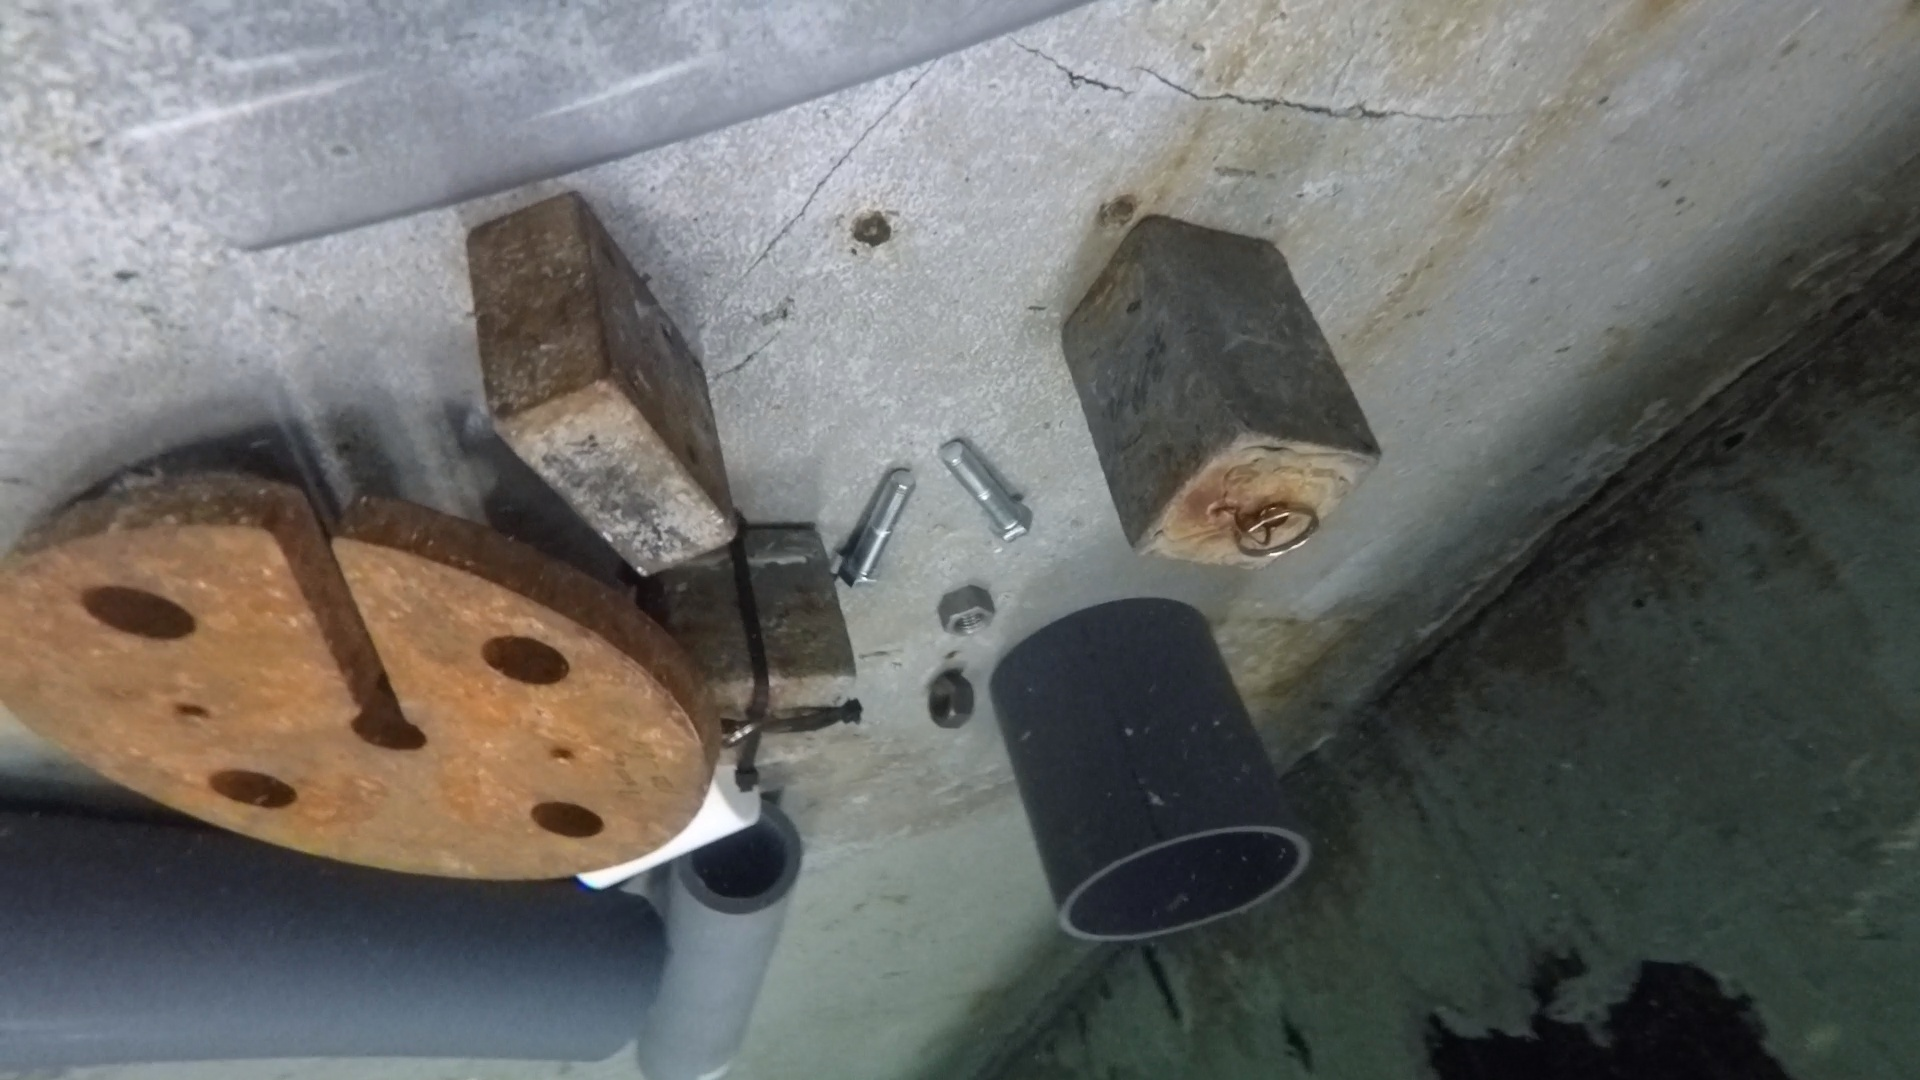bolt: (940, 440, 1033, 541), (839, 468, 915, 588)
flange: (1, 469, 721, 881)
led_block: (1058, 212, 1386, 574), (460, 193, 740, 582), (621, 525, 862, 796)
nut: (938, 585, 996, 640), (928, 671, 975, 729)
pipe: (69, 1, 1105, 256), (1, 808, 669, 1068), (988, 597, 1313, 944), (633, 798, 802, 1080), (578, 767, 762, 891)
